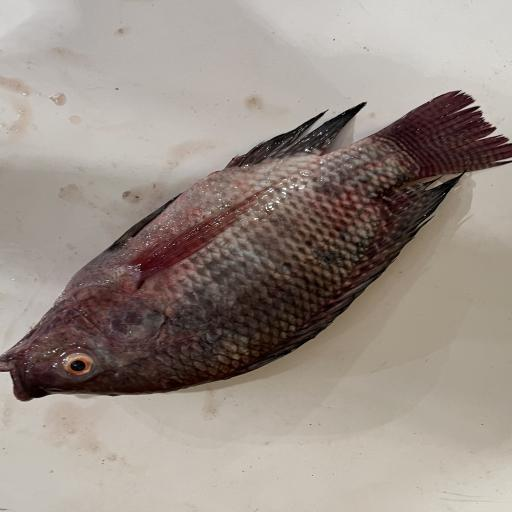Tilapia: (0, 90, 512, 402)
